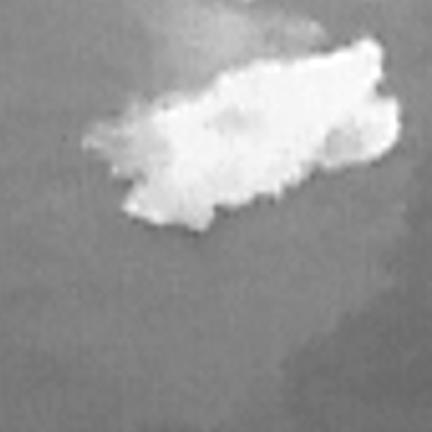flukeprints: (88, 38, 400, 230)
